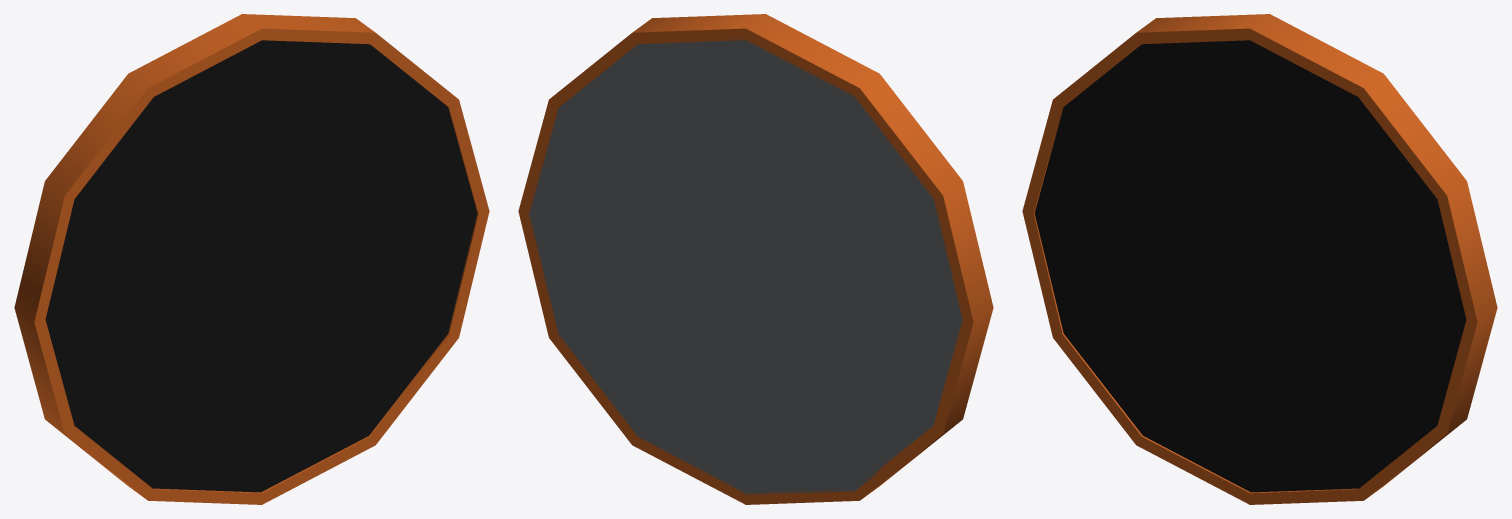
File: engine_hot_emitter_annulus.obj
3 renders of one model, left to right at view 1: azimuth 30°, elevation 25°; view 2: azimuth 150°, elevation 25°; view 3: azimuth 330°, elevation 25°, orthographic.
Parts seen in each view (by area): view 1: engine_hot_emitter_annulus; view 2: engine_hot_emitter_annulus; view 3: engine_hot_emitter_annulus.
Boxes of the visible parts, box(x1,y1,x2,y2) form: engine_hot_emitter_annulus: box(14, 14, 489, 504); engine_hot_emitter_annulus: box(518, 14, 993, 504); engine_hot_emitter_annulus: box(1022, 14, 1497, 504).
Bounding box in the file's own units: 4.88 × 4.88 × 0.37.
